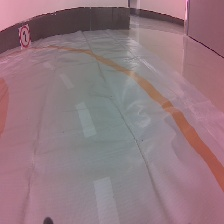limit: (16, 24, 35, 51)
